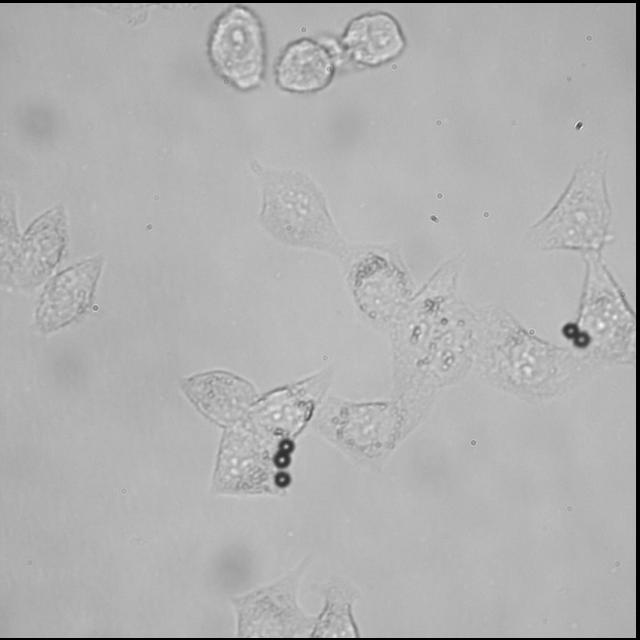microbeads: (572, 329, 590, 348), (272, 450, 290, 468), (560, 322, 578, 340), (274, 470, 290, 486), (278, 438, 294, 452)
